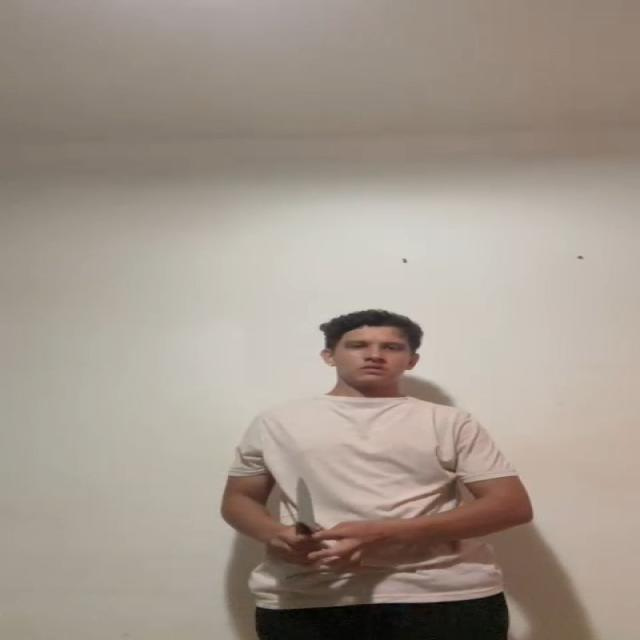knife: (295, 481, 317, 530)
